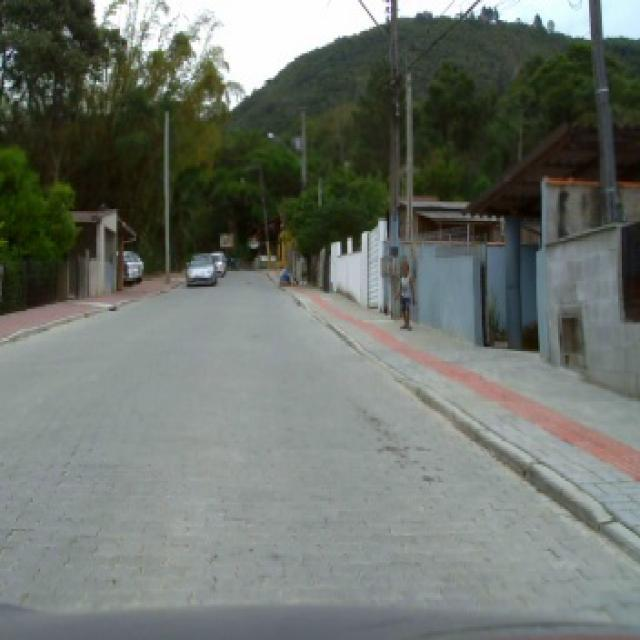Poth-hole: (105, 302, 116, 309)
